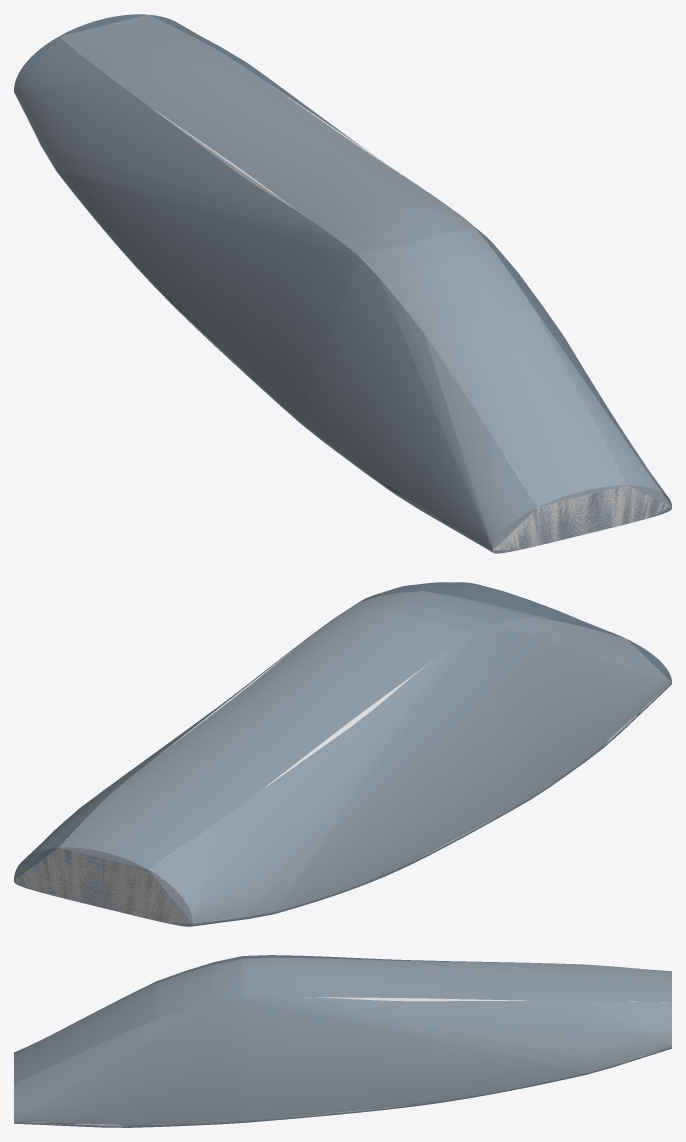
File: canopy.fbx
3 views of the same model, one above another, from view 1: azimuth 30°, elevation 25°; view 2: azimuth 150°, elevation 25°; view 3: azimuth 270°, elevation 25° (orthographic). The views are drawn at different scales.
Parts seen in each view (by area): view 1: canopy, canopy_colmesh0; view 2: canopy, canopy_colmesh0; view 3: canopy, canopy_colmesh0.
Boxes of the visible parts, x1,y1,x2,y2 form: canopy: (14, 14, 671, 553); canopy_colmesh0: (14, 15, 671, 550); canopy: (14, 582, 671, 926); canopy_colmesh0: (14, 591, 671, 923); canopy: (14, 955, 671, 1127); canopy_colmesh0: (14, 958, 671, 1126).
Size of what is drawn, in the model's own units: 0.78 by 0.6295 by 2.78.
